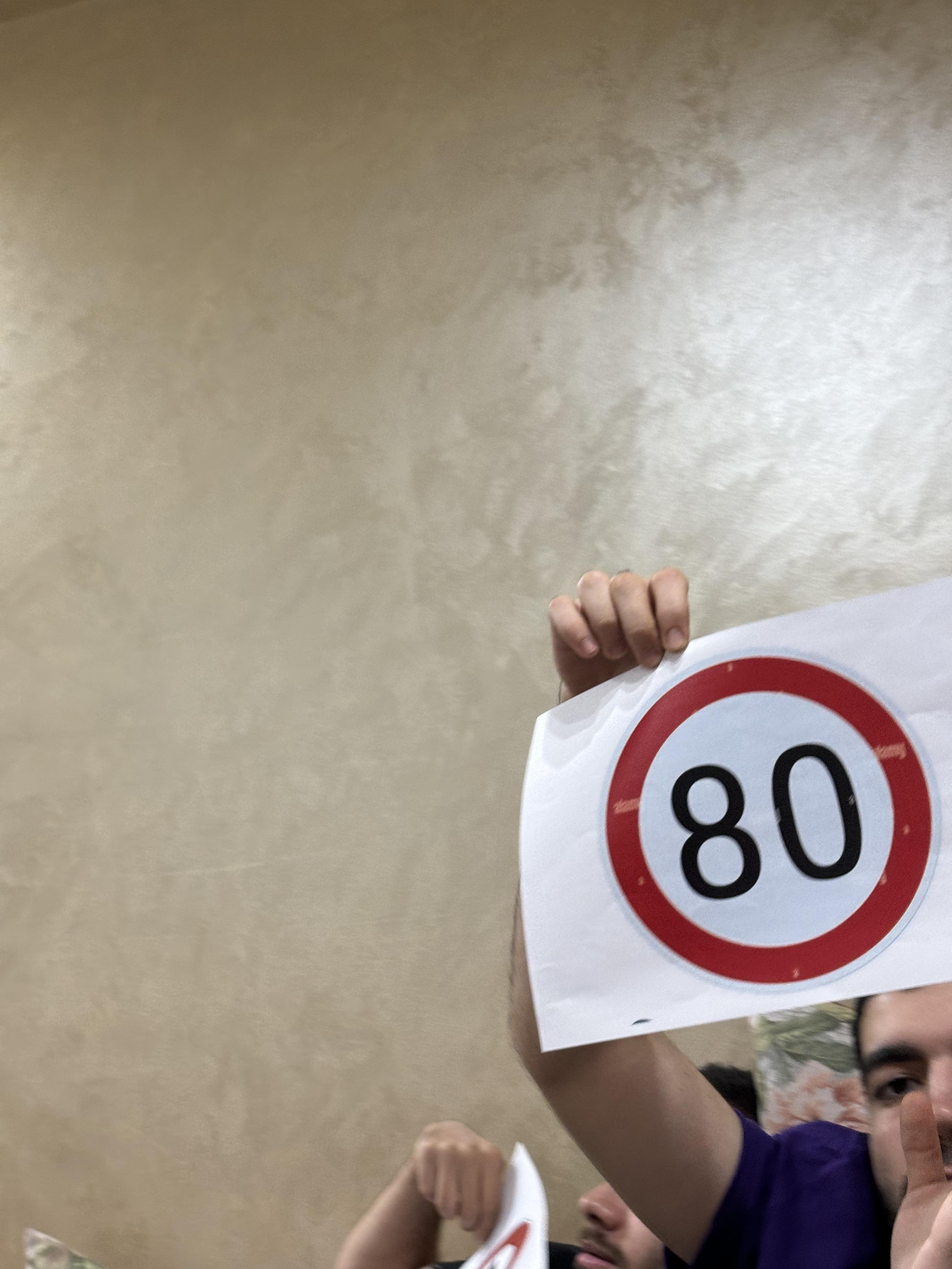80-Speed: (608, 649, 933, 989)
